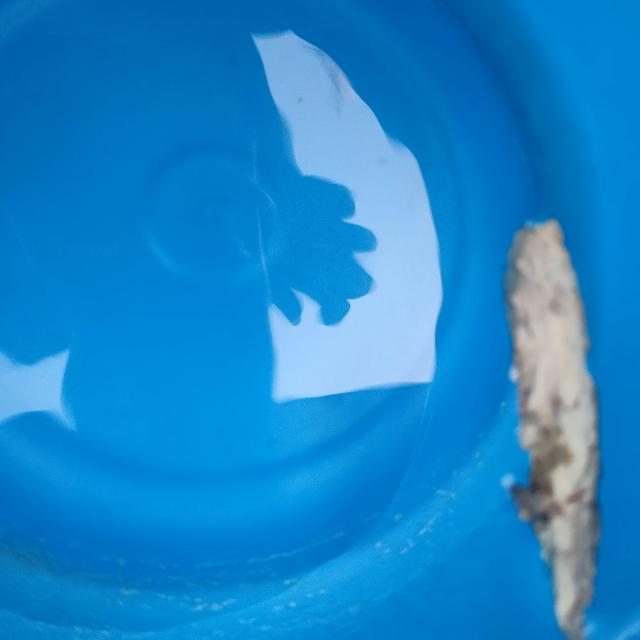litter: (493, 203, 623, 636), (169, 138, 170, 152)
